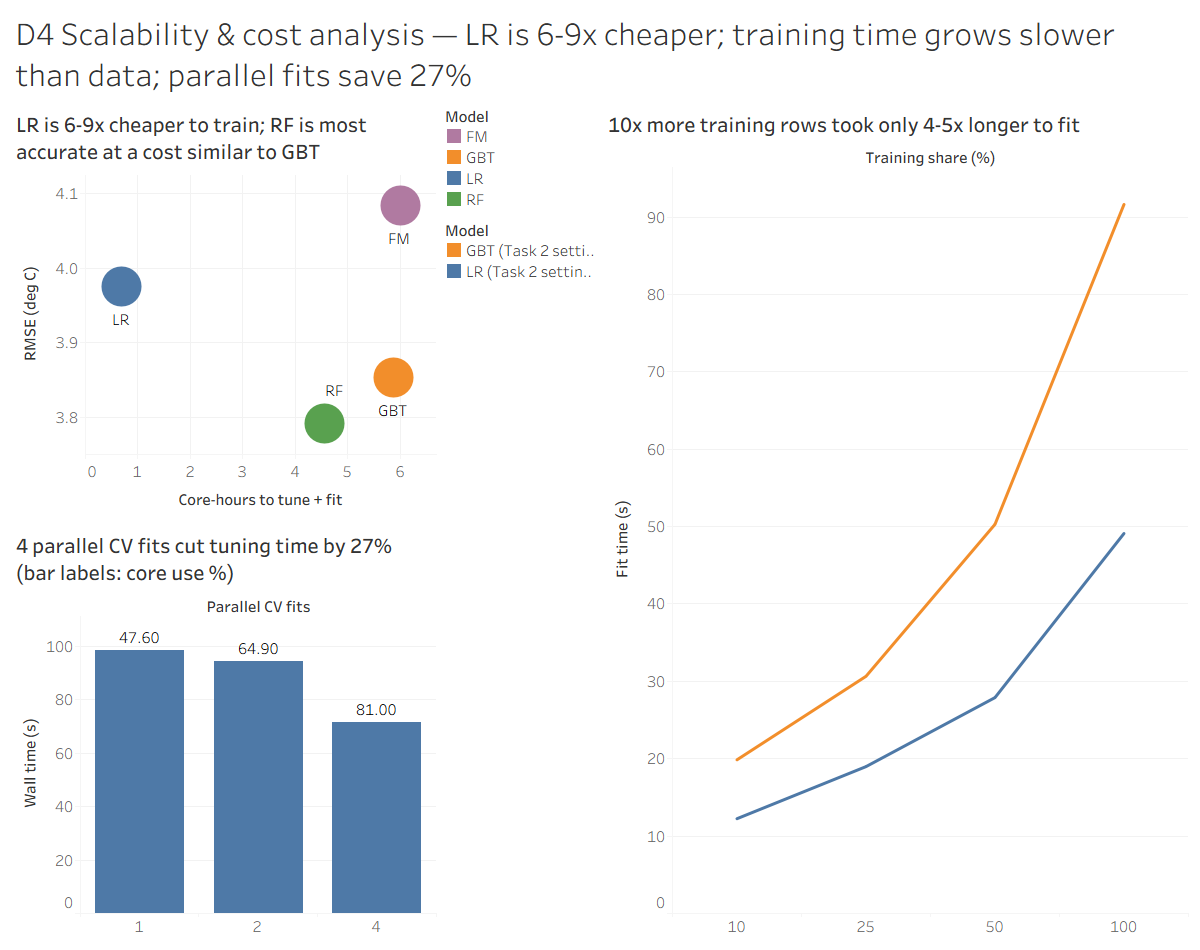

The dashboard page shown, as its layout file describes it:
{"tool":"tableau","page":{"name":"D4 Scalability & cost analysis","canvas":[1200,950],"ordinal":3},"visuals":[{"type":"title","box":[8,8,1184,92]},{"type":"worksheet","title":"D4 cost","mark":"Circle","rows":["RMSE (deg C)"],"cols":["Core-hours to tune + fit"],"box":[8,100,432,421]},{"type":"legend","title":"D4 cost","param":"[federated.1brhbc106g652u1bml5xm12napaw].[none:Model:nk]","box":[440,100,160,114]},{"type":"worksheet","title":"D4 scaling","mark":"Line","rows":["Fit time (s)"],"cols":["Training share (%)"],"box":[600,100,592,842]},{"type":"legend","title":"D4 scaling","param":"[federated.1v1em0w0t0f1ne10iy04v033whqn].[none:Model:nk]","box":[440,214,160,72]},{"type":"worksheet","title":"D4 parallel CV","mark":"Automatic","rows":["Wall time (s)"],"cols":["Parallel CV fits"],"box":[8,521,432,421]}]}

Visuals, with their boxes in screenshot pixels (x1, y1, x2, y2), scaled from the page's 1200x950 canvas onto the 1200x950 screenshot:
title: rect(8, 8, 1192, 100)
"D4 cost" worksheet (Circle marks): rect(8, 100, 440, 521)
"D4 cost" legend: rect(440, 100, 600, 214)
"D4 scaling" worksheet (Line marks): rect(600, 100, 1192, 942)
"D4 scaling" legend: rect(440, 214, 600, 286)
"D4 parallel CV" worksheet: rect(8, 521, 440, 942)
